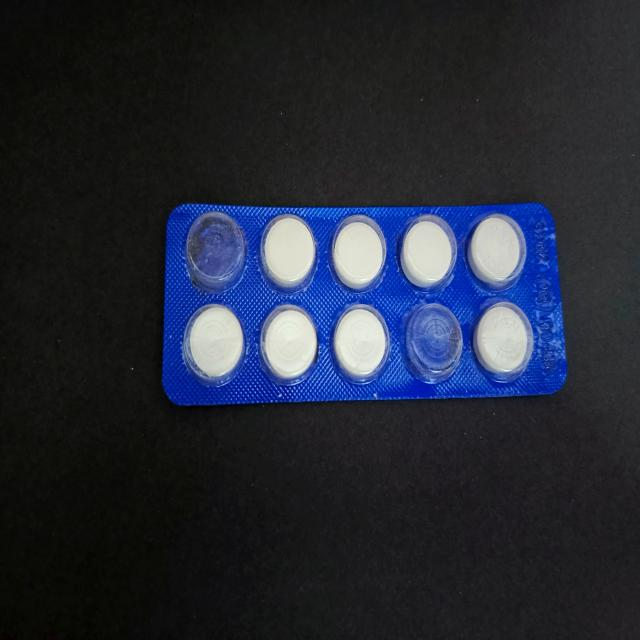defect: (180, 211, 248, 290), (401, 304, 467, 384)
